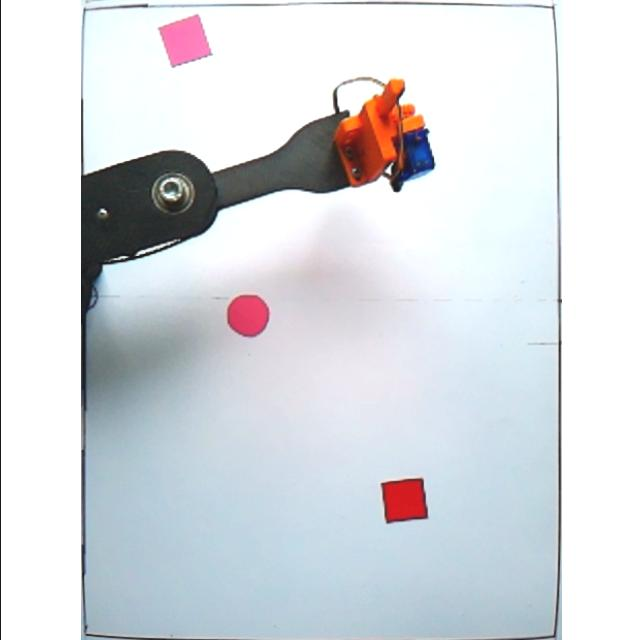pinkCircle: (224, 293, 268, 337)
pinkSquare: (152, 12, 212, 72)
redSquare: (377, 476, 428, 524)
